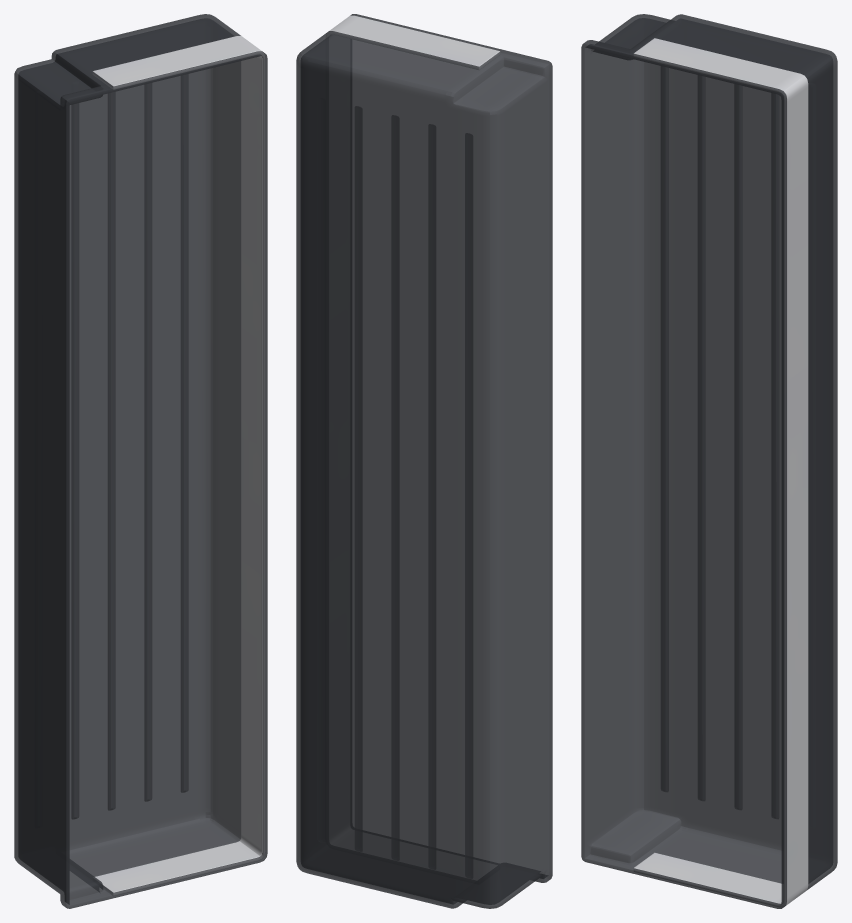
File: SM_Fridge_Door_Tray_02.obj
3 renders of one model, left to right at view 1: azimuth 30°, elevation 25°; view 2: azimuth 150°, elevation 25°; view 3: azimuth 330°, elevation 25°, orthographic.
Parts seen in each view (by area): view 1: SM_Fridge_Door_Tray_02; view 2: SM_Fridge_Door_Tray_02; view 3: SM_Fridge_Door_Tray_02.
Boxes of the visible parts, box(x1,y1,x2,y2) form: SM_Fridge_Door_Tray_02: box(14, 14, 267, 908); SM_Fridge_Door_Tray_02: box(296, 14, 552, 908); SM_Fridge_Door_Tray_02: box(581, 14, 837, 908).
Bounding box in the file's own units: 0.11 × 0.422 × 0.0538.
2 materials, 1 textured.
